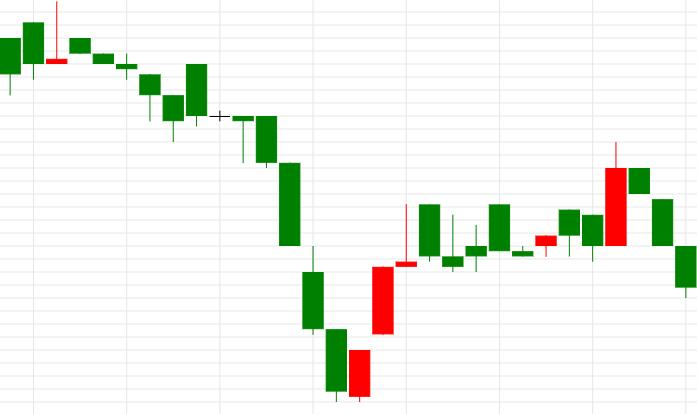three_black_crows_fall: (582, 141, 697, 298)
